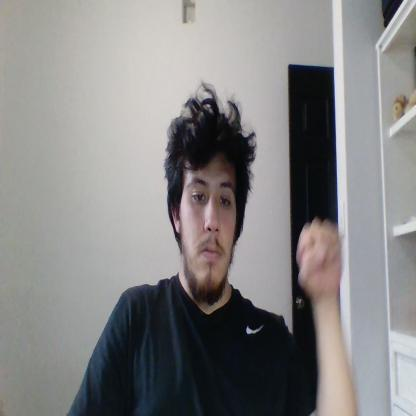S: (296, 219, 343, 299)
